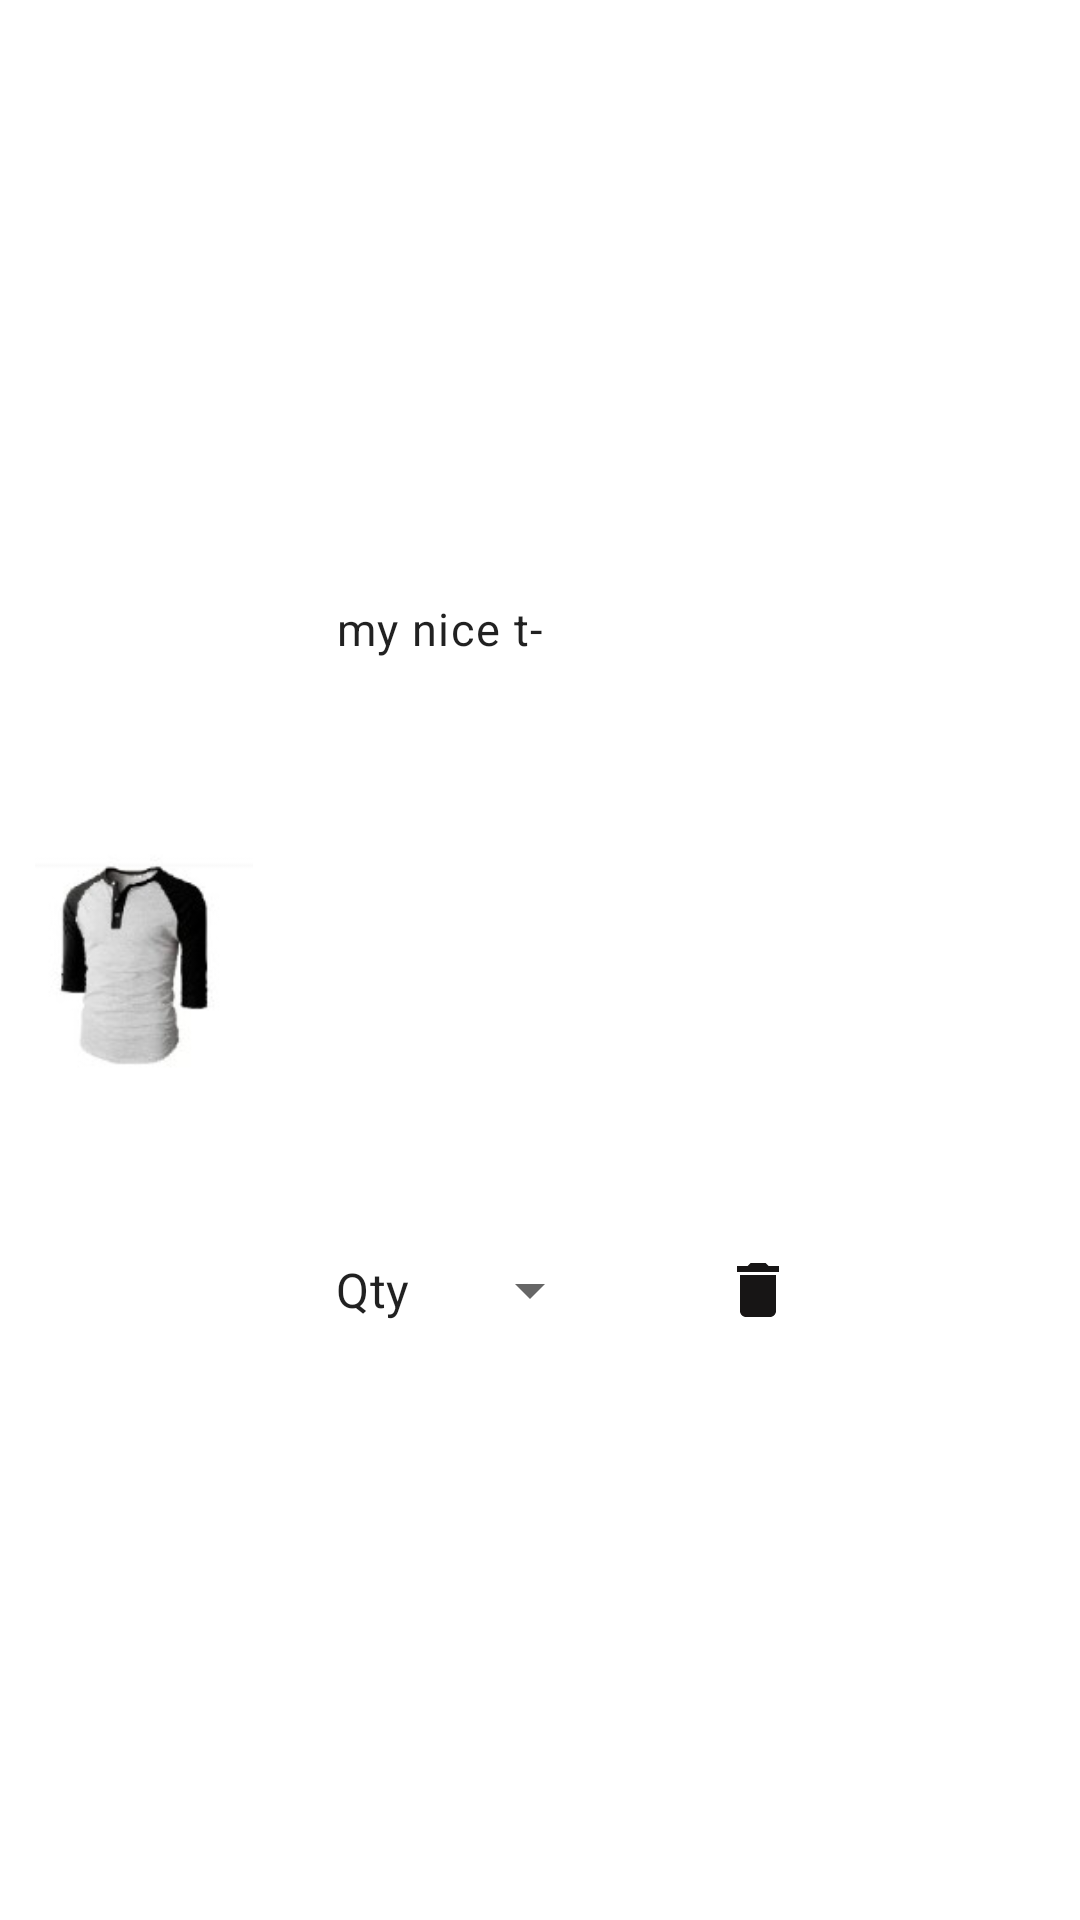

Screen size 1080px×1920px. Icon name, then its box in pixels as (x1, y1, x2, y2):
delete: (737, 1263, 779, 1317)
shirt: (60, 866, 208, 1064)
